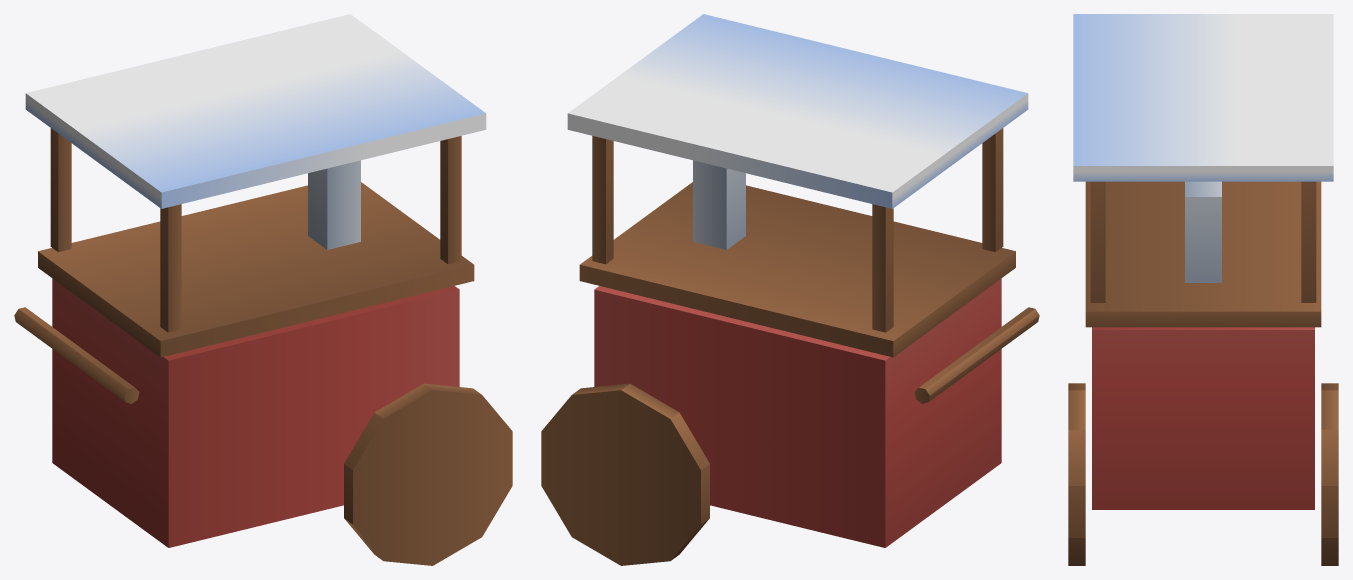
The model's file is cocoa_cart.fbx.
The picture shows the model from 3 angles, left to right: view 1: azimuth 30°, elevation 25°; view 2: azimuth 150°, elevation 25°; view 3: azimuth 270°, elevation 25°; orthographic projection. The views are drawn at different scales.
Parts seen in each view (by area): view 1: cocoa_cart; view 2: cocoa_cart; view 3: cocoa_cart.
Boxes of the visible parts, x1,y1,x2,y2 form: cocoa_cart: (14,14,512,565); cocoa_cart: (541,14,1039,565); cocoa_cart: (1068,14,1338,565).
Bounding box in the file's own units: 715 × 800 × 468.
